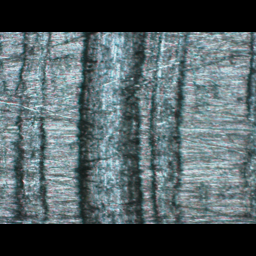d: (74, 32, 187, 223), (4, 32, 53, 223)
